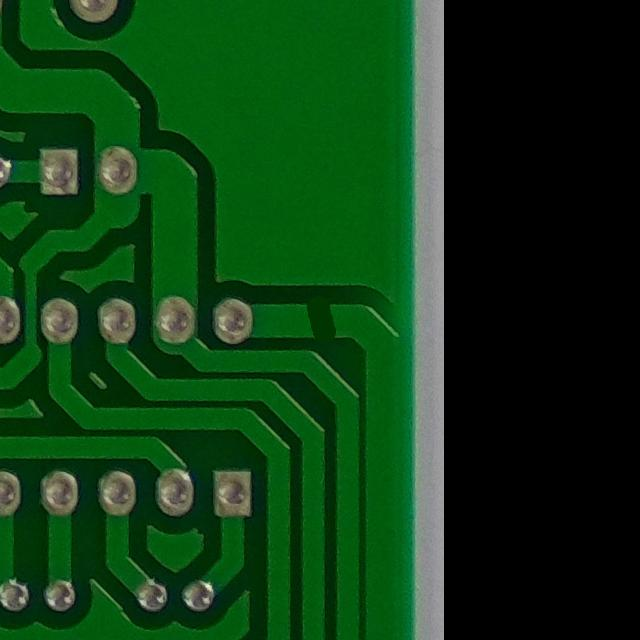open_circuit: (285, 289, 355, 351)
